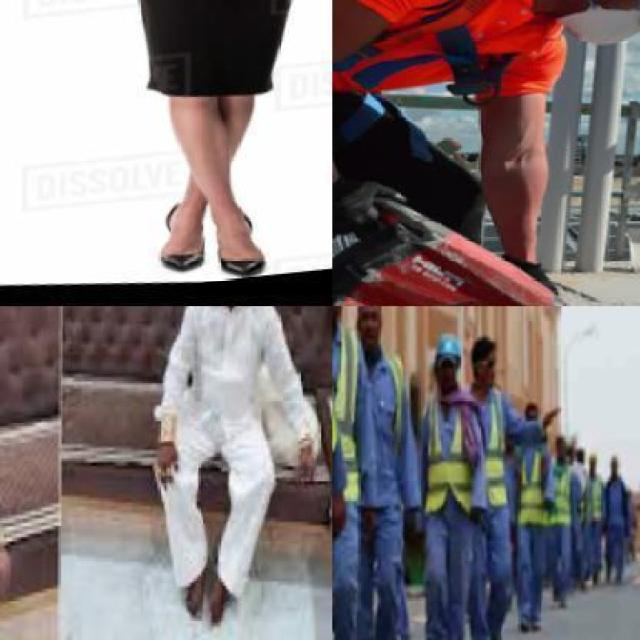Vest: (332, 0, 557, 129), (345, 351, 412, 509), (411, 392, 483, 530), (332, 330, 371, 522), (469, 388, 514, 515), (506, 451, 554, 543), (543, 471, 574, 540)
